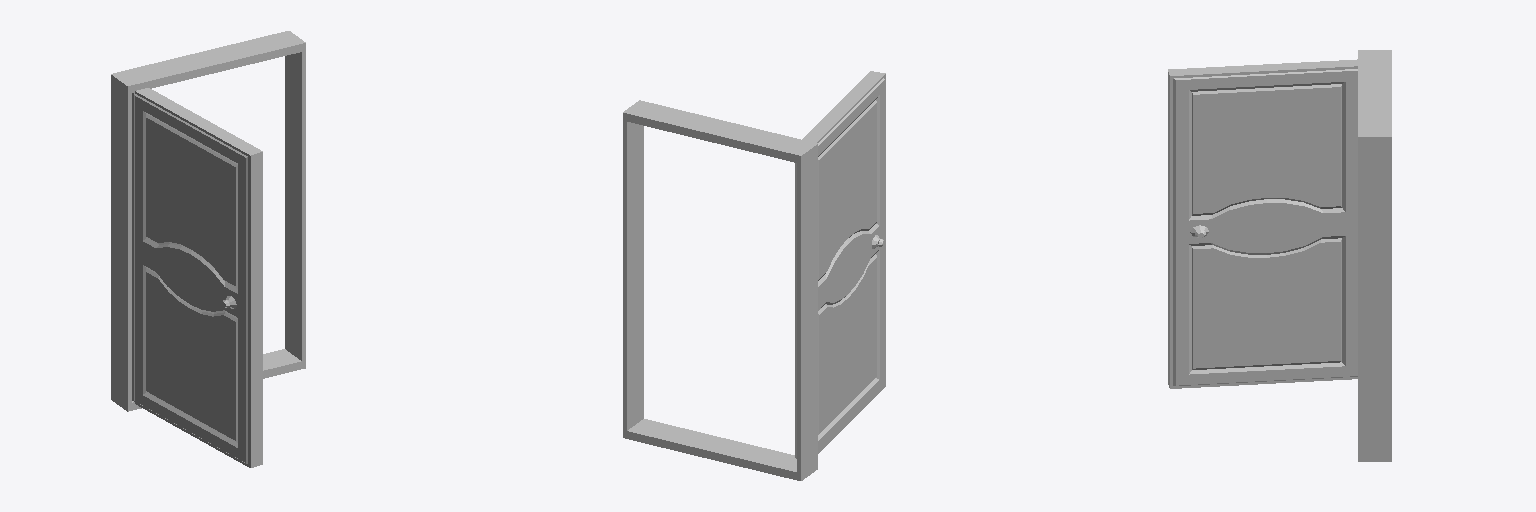
The model's file is drzwiok_000009.obj.
3 renders of one model, left to right at view 1: azimuth 30°, elevation 25°; view 2: azimuth 150°, elevation 25°; view 3: azimuth 270°, elevation 25°, orthographic.
Visible parts, largest first — view 1: Door_4.001_Cube.001, Kostka; view 2: Door_4.001_Cube.001, Kostka; view 3: Door_4.001_Cube.001, Kostka.
Part boxes in pixels (bbox=[...]): Door_4.001_Cube.001: bbox=[132, 88, 262, 467]; Kostka: bbox=[111, 31, 305, 411]; Door_4.001_Cube.001: bbox=[795, 71, 885, 458]; Kostka: bbox=[623, 100, 817, 480]; Door_4.001_Cube.001: bbox=[1168, 59, 1357, 388]; Kostka: bbox=[1358, 50, 1391, 461].
Size of the model in its own units: 0.7416 by 1.29 by 0.8064.